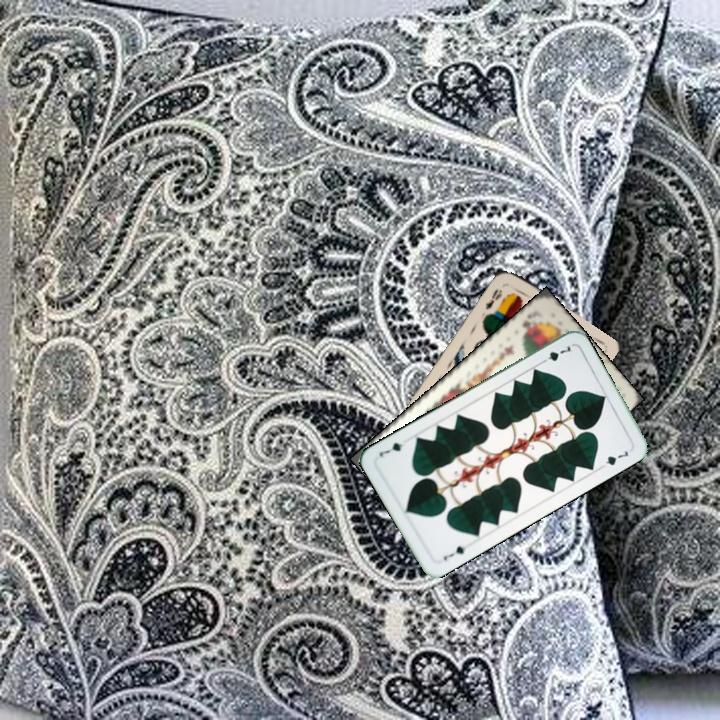EO: (481, 285, 505, 312)
G7: (536, 341, 573, 367), (439, 542, 472, 563)
SK: (517, 311, 537, 338)
